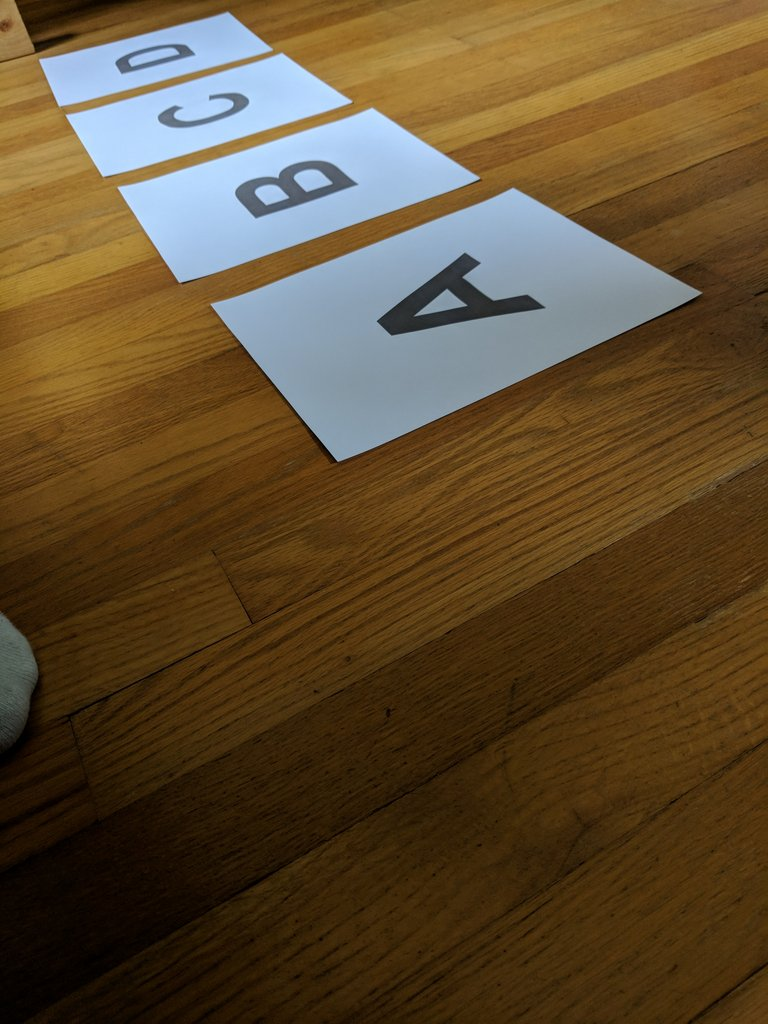home: (156, 91, 249, 129)
